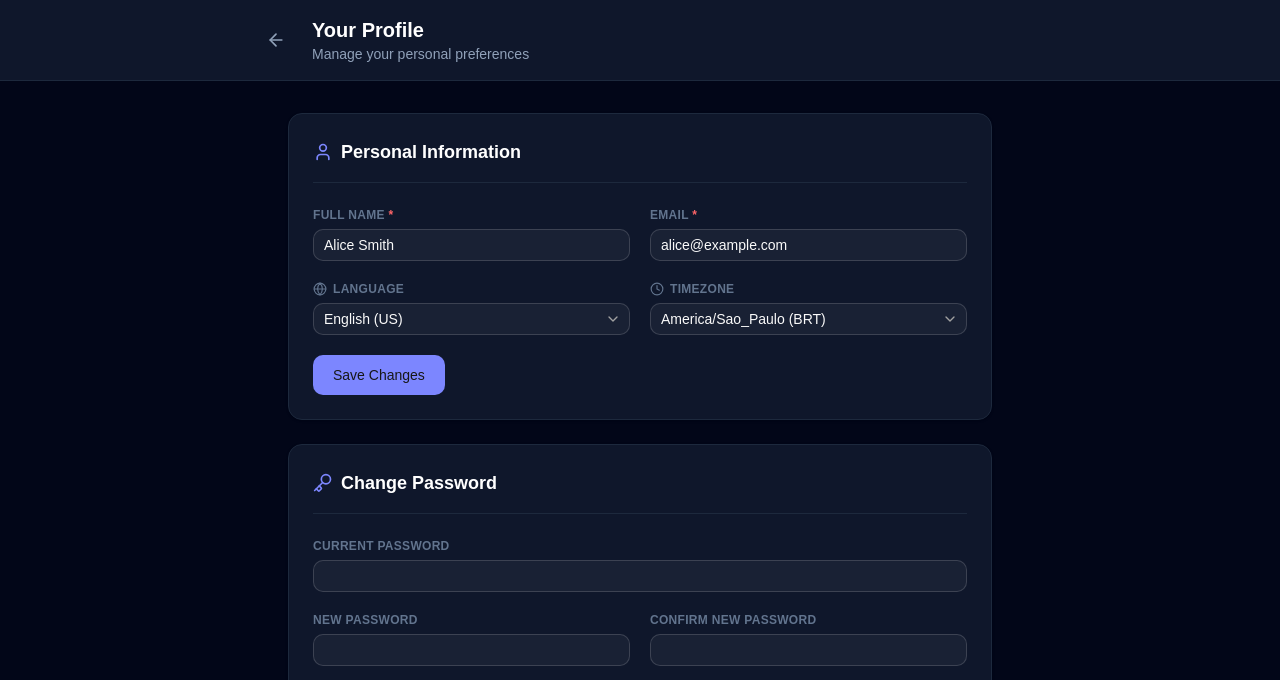
Test case: ProfileRoute — change password › shows an error when changePassword rejects
This screenshot has width=1280, height=680.
Step 1. Type "WrongPass" into the password field labelled "Current Password" → {"x": 640, "y": 576}, box [313,560,967,592]
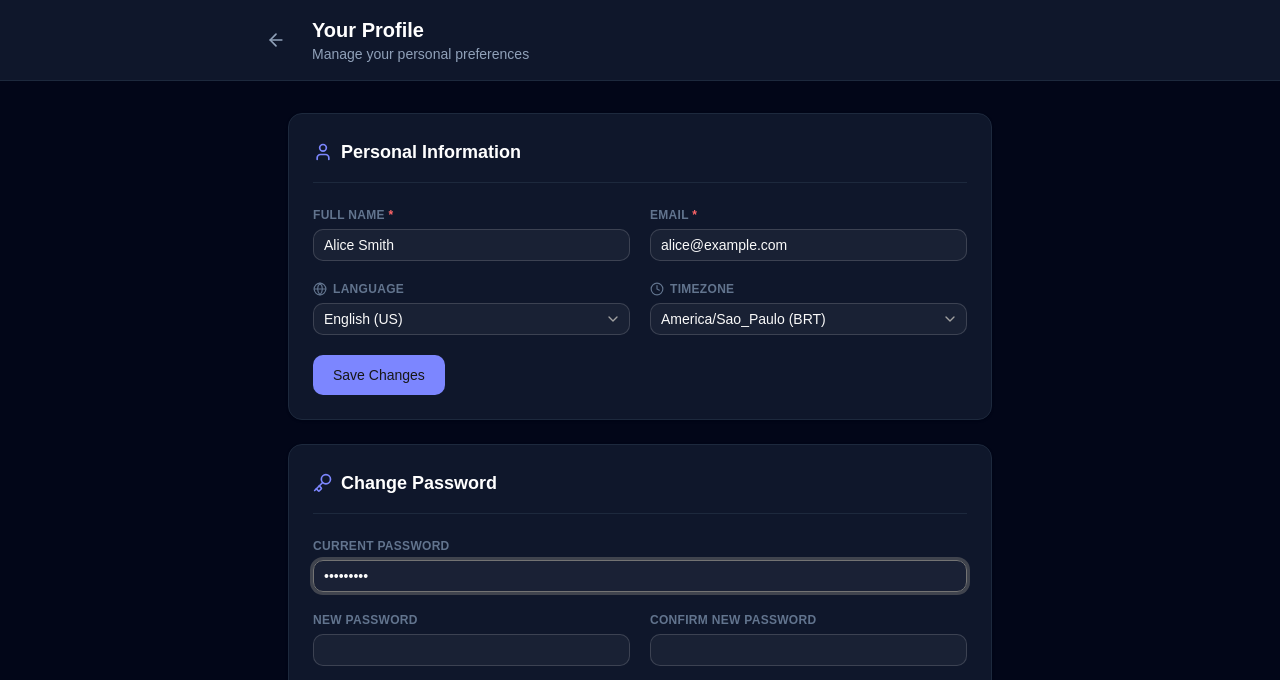
Step 2. Type "NewPass1" into the password field labelled "New Password" → {"x": 472, "y": 650}, box [313,634,630,666]
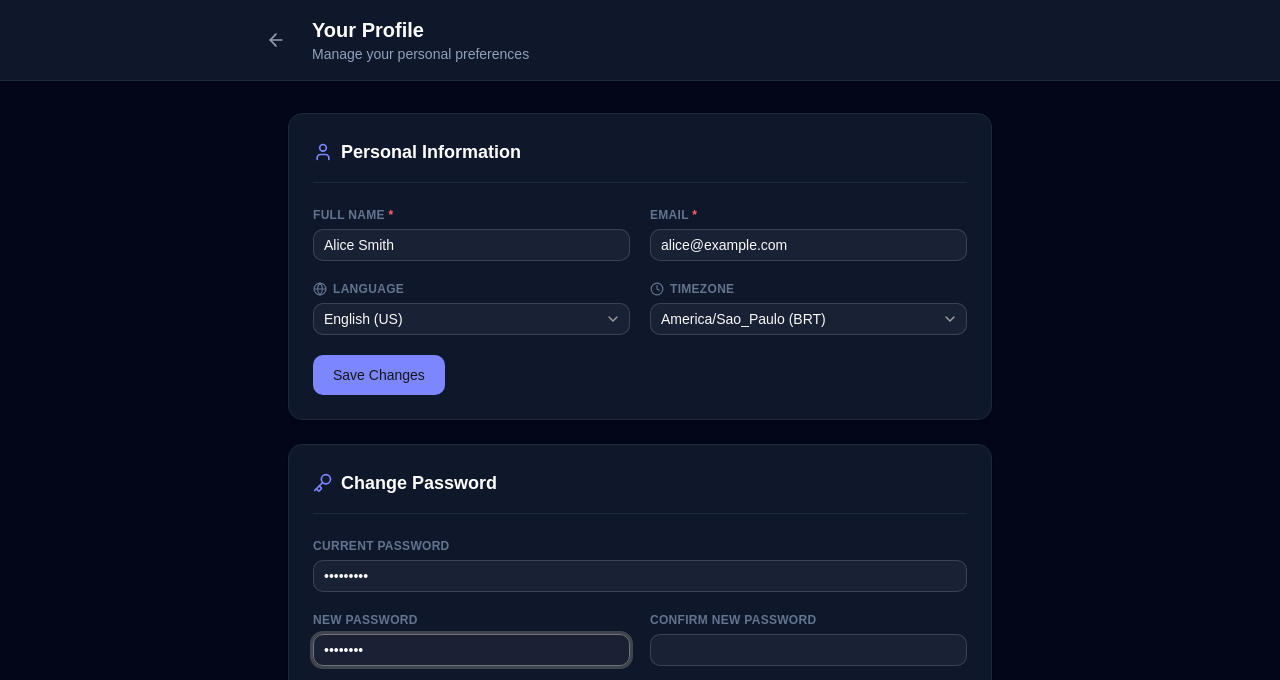
Step 3. Type "NewPass1" into the password field labelled "Confirm New Password" → {"x": 808, "y": 650}, box [650,634,967,666]
(page scrolled)
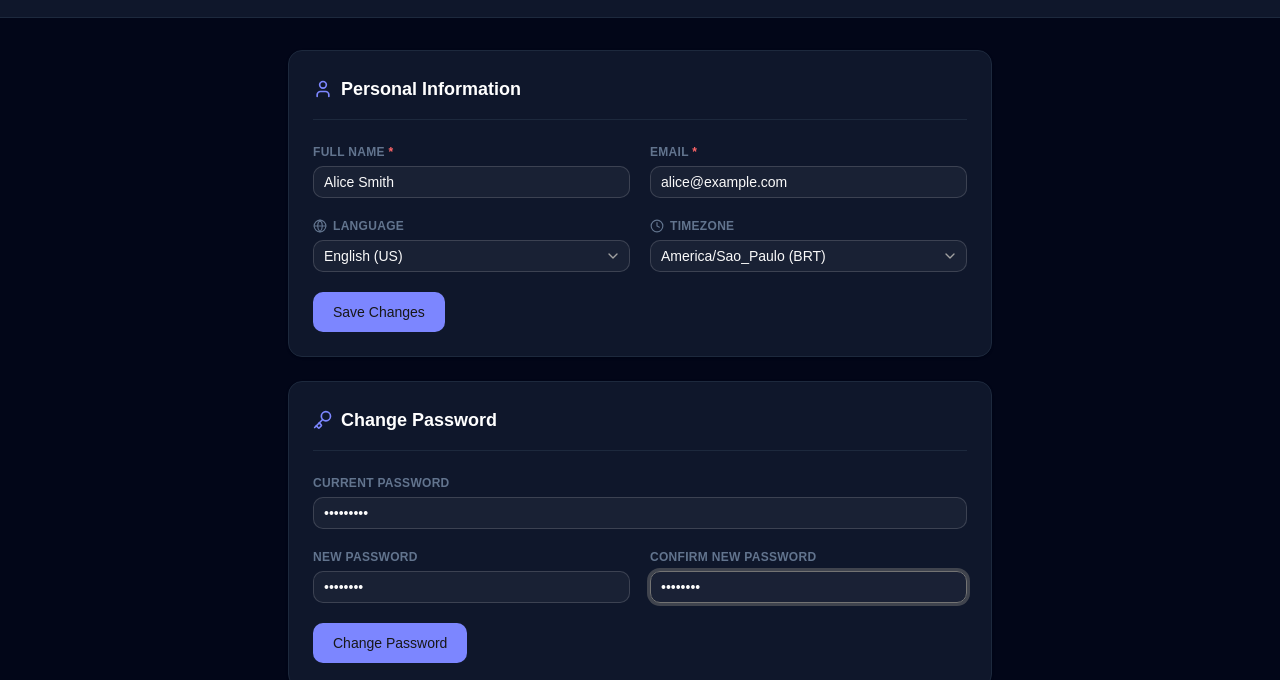
Step 4. Click the button "Change Password" → {"x": 390, "y": 643}, box [313,623,467,663]
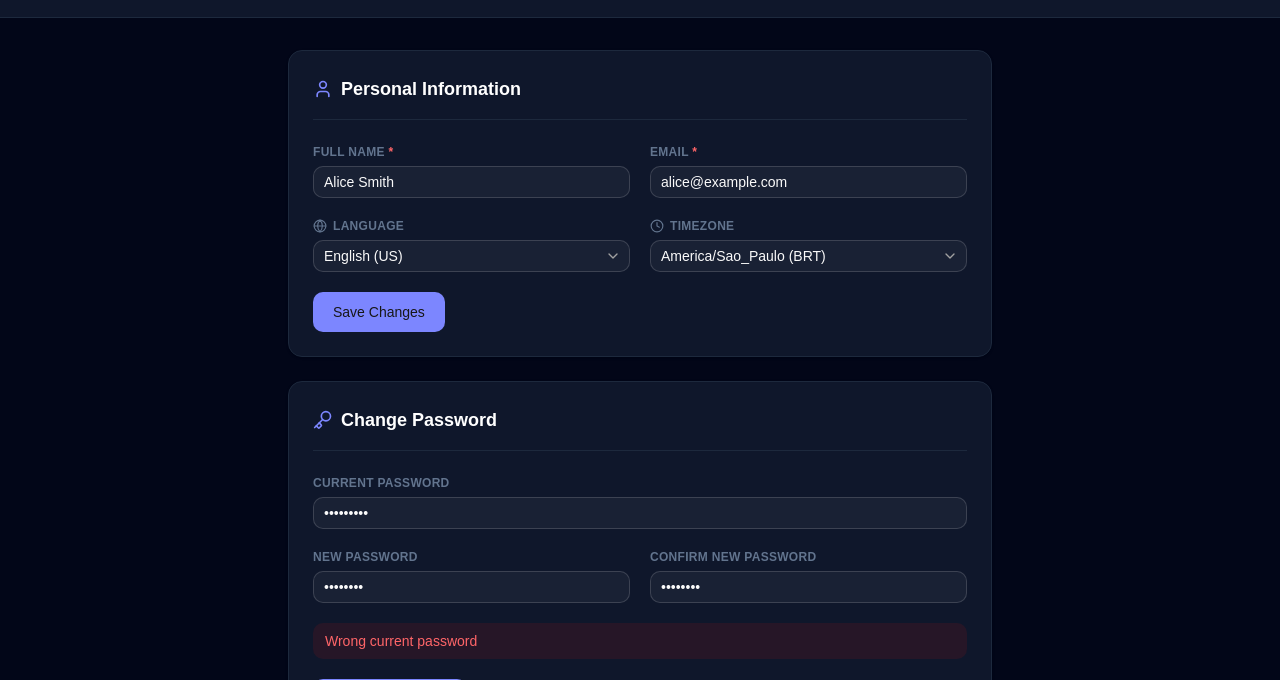
Result: the message reads "Wrong current password" at [325,633,477,649]
